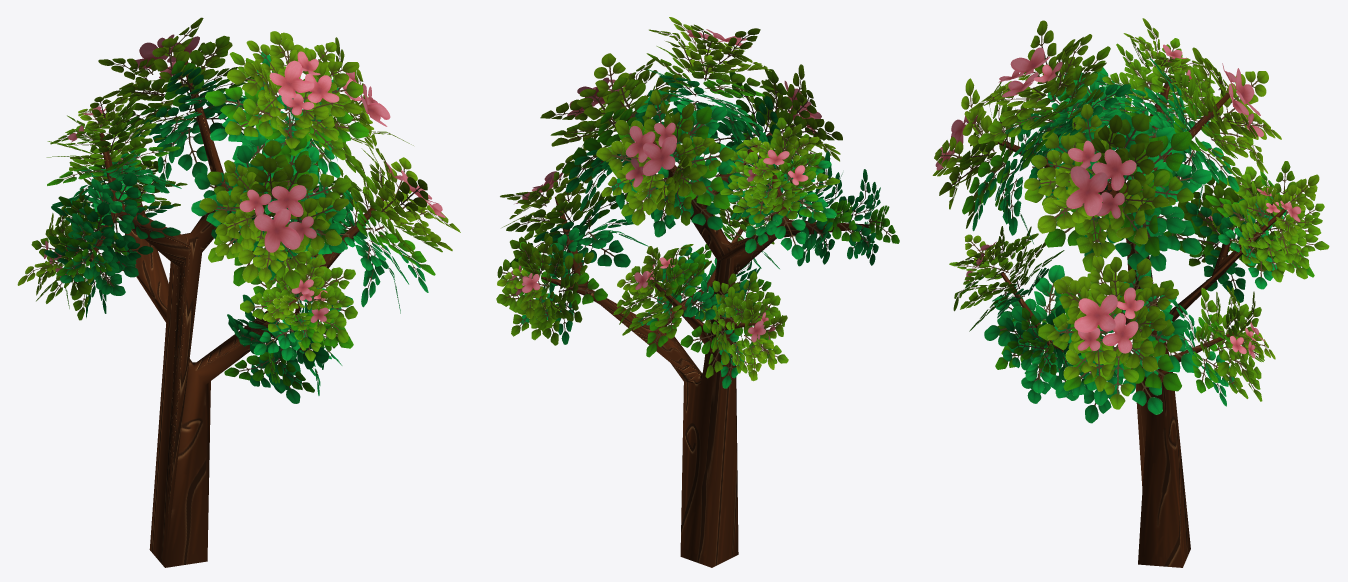
The model's file is greentree3.fbx.
3 renders of one model, left to right at view 1: azimuth 30°, elevation 25°; view 2: azimuth 150°, elevation 25°; view 3: azimuth 270°, elevation 25°, orthographic. The views are drawn at different scales.
Parts seen in each view (by area): view 1: TRW2; view 2: TRW2; view 3: TRW2.
Part boxes in pixels (left/top/right/bottom): TRW2: left=17, top=17, right=460, bottom=567; TRW2: left=496, top=17, right=899, bottom=567; TRW2: left=932, top=18, right=1329, bottom=567.
Bounding box in the file's own units: 621 × 763 × 508.
